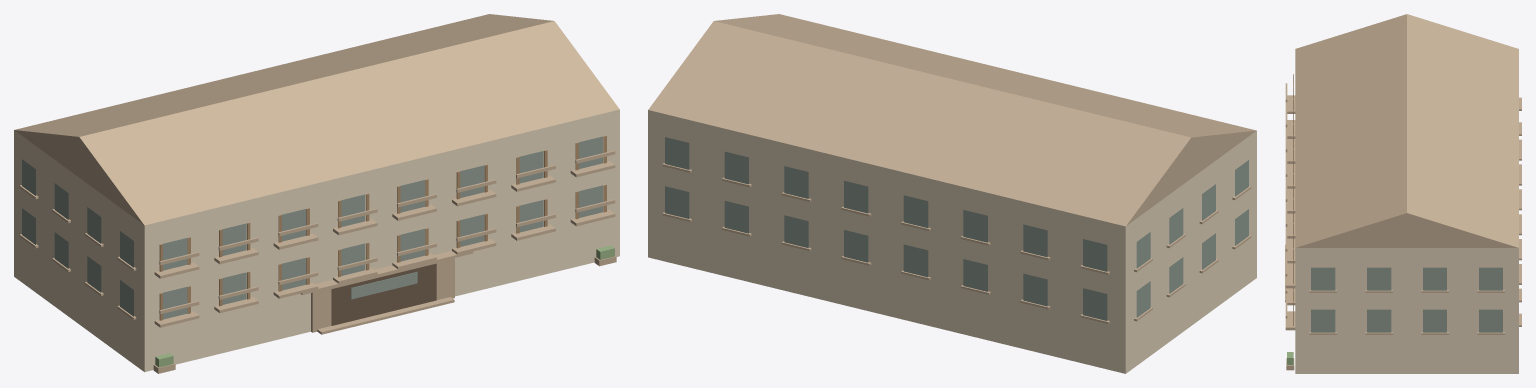
Rendered from residential_4x2_a.glb.
3 renders of one model, left to right at view 1: azimuth 30°, elevation 25°; view 2: azimuth 150°, elevation 25°; view 3: azimuth 270°, elevation 25°, orthographic. The views are drawn at different scales.
Visible parts, largest first — view 1: residential_4x2_a_0; view 2: residential_4x2_a_0; view 3: residential_4x2_a_0.
Boxes of the visible parts, <box> form: residential_4x2_a_0: <box>14,14,619,373</box>; residential_4x2_a_0: <box>648,14,1256,373</box>; residential_4x2_a_0: <box>1285,14,1521,373</box>.
Bounding box in the file's own units: 30.86 × 11.5 × 15.33.
